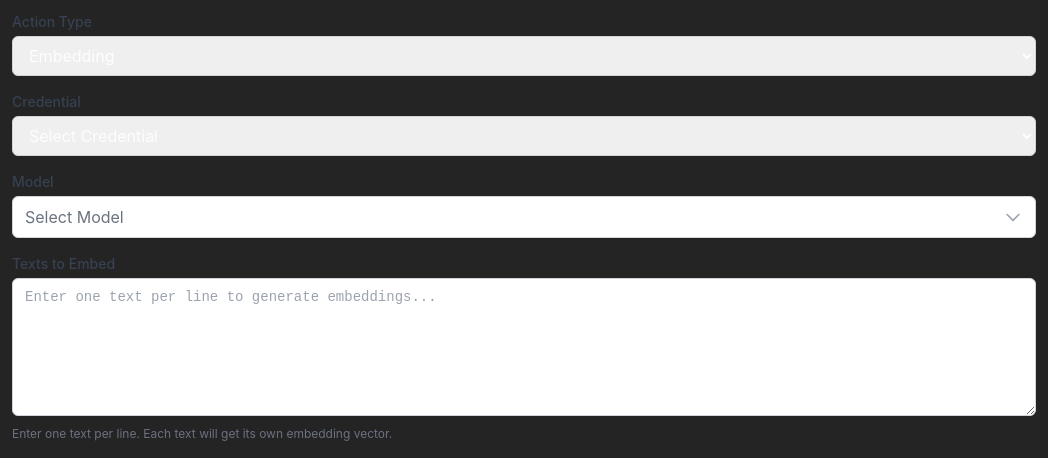
Test: AIConfigPanel › should filter models based on action capability
This screenshot has width=1048, height=458.
Click the button "Select Model".
click(74, 217)  # box x1=12 y1=196 x2=1036 y2=238
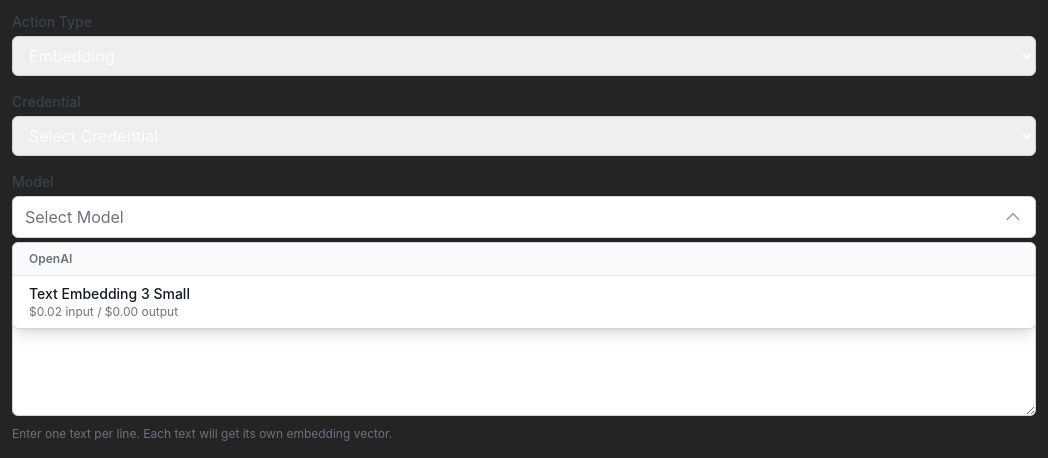
Now the text "Text Embedding 3 Small" is shown, box x1=29 y1=285 x2=190 y2=302
